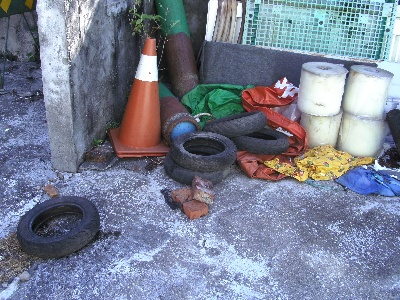plastic_bag: (237, 73, 308, 181), (265, 144, 378, 186), (180, 82, 254, 127), (335, 161, 400, 201)
tire: (16, 194, 102, 261), (170, 130, 238, 171), (161, 152, 232, 188), (231, 126, 291, 156), (201, 110, 268, 135)
